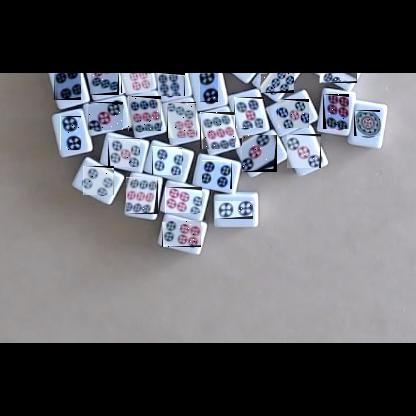1p: (354, 110, 380, 136)
2p: (60, 116, 81, 150), (215, 201, 253, 219), (199, 73, 218, 102)
3p: (242, 135, 277, 172), (287, 134, 321, 168), (88, 102, 123, 130)
4p: (83, 166, 114, 195), (152, 146, 182, 175), (202, 160, 232, 189), (54, 73, 81, 100)
5p: (277, 99, 309, 128), (108, 138, 140, 167), (234, 97, 263, 128)
6p: (162, 221, 201, 247), (165, 187, 202, 213), (323, 94, 349, 129)
7p: (167, 102, 196, 138), (90, 73, 119, 95), (121, 73, 151, 93)
8p: (260, 73, 294, 93), (158, 73, 185, 96), (319, 73, 357, 83)
9p: (200, 112, 235, 149), (126, 177, 158, 214), (128, 96, 161, 131)
